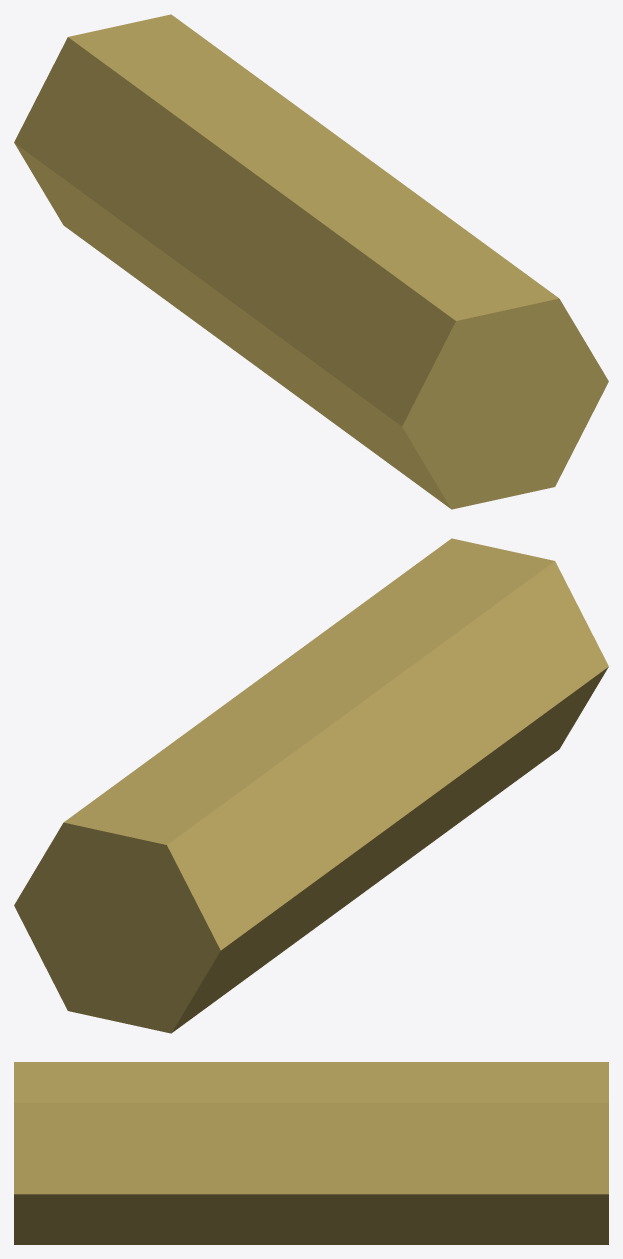
Rendered from magnum.fbx.
3 renders of one model, top to bottom at view 1: azimuth 30°, elevation 25°; view 2: azimuth 150°, elevation 25°; view 3: azimuth 270°, elevation 25°, orthographic. The views are drawn at different scales.
Parts seen in each view (by area): view 1: magnum; view 2: magnum; view 3: magnum.
Part boxes in pixels (x1,y1,x2,y2): magnum: (14,14,608,509); magnum: (14,538,608,1033); magnum: (14,1062,608,1244).
Size of the model in its own units: 1.23 by 1.08 by 3.99.
1 material, 1 textured.
